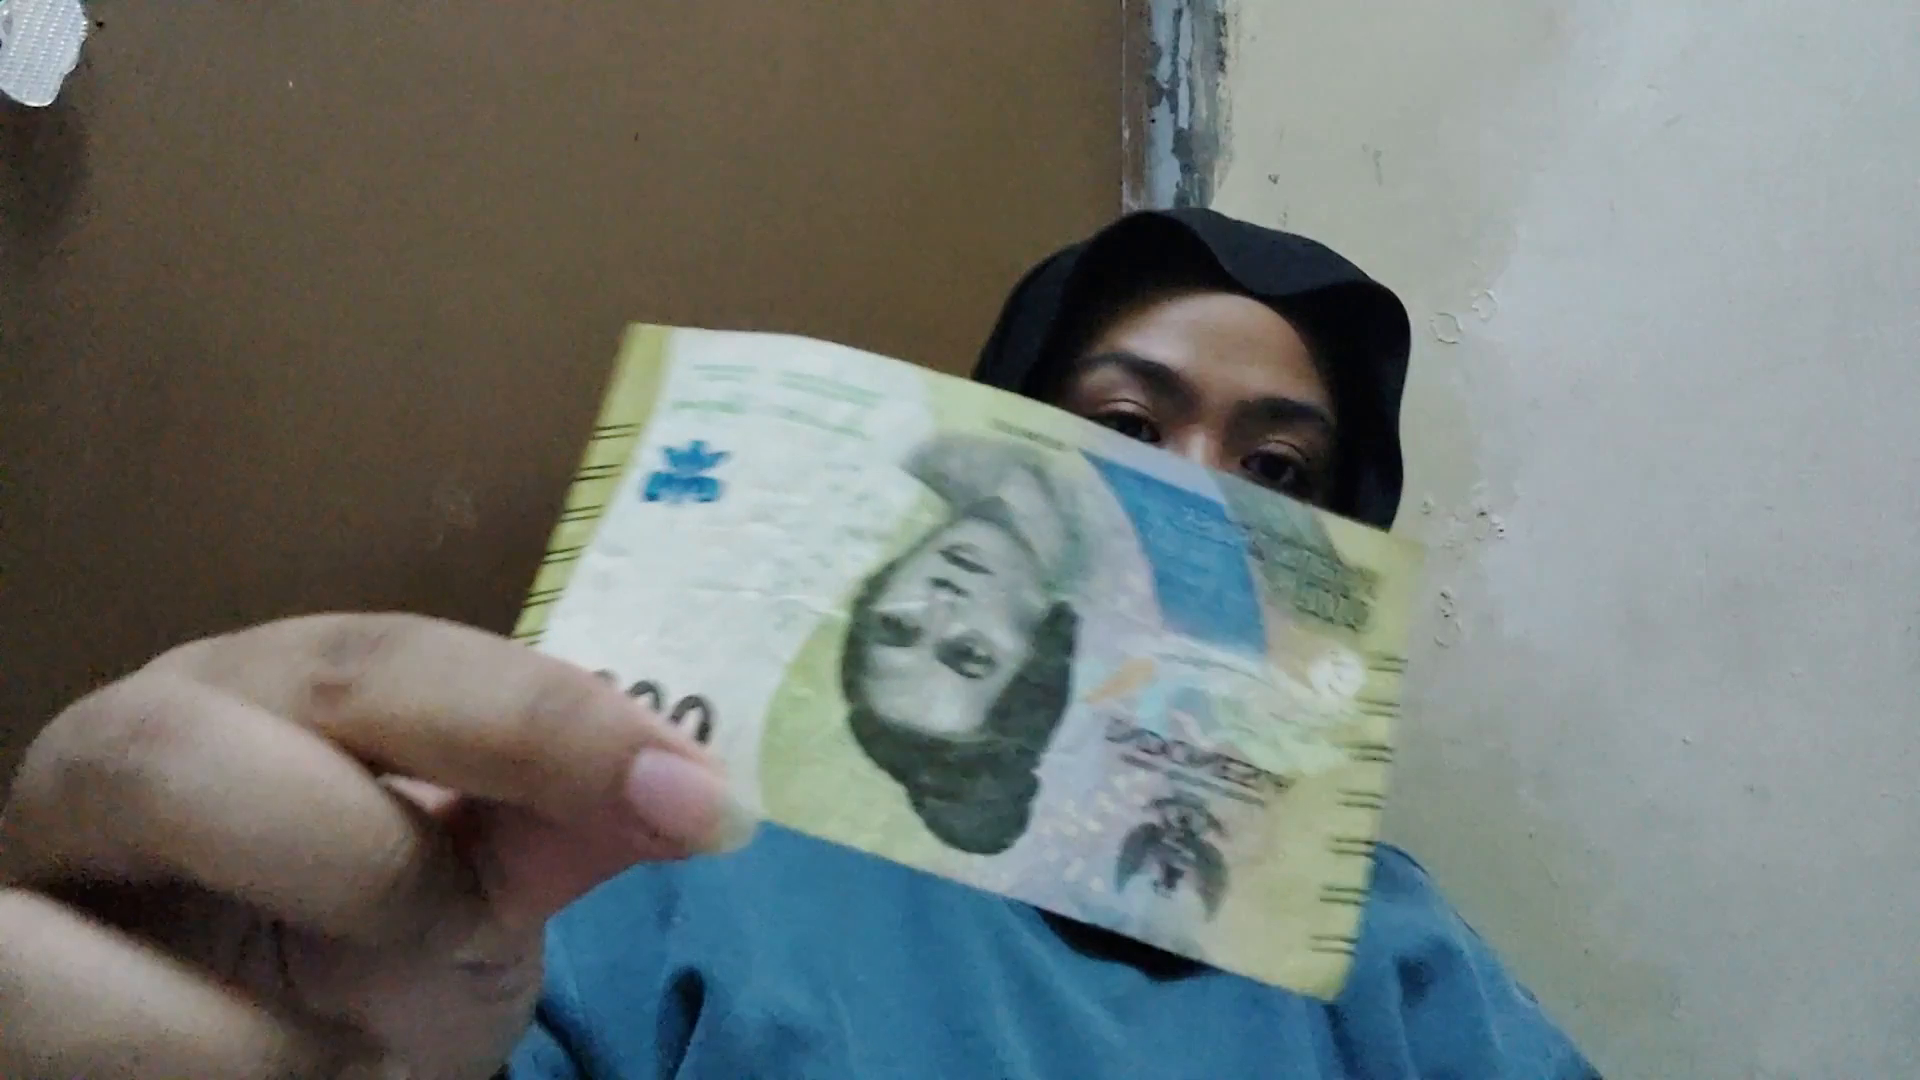1k: (617, 289, 1510, 782)
